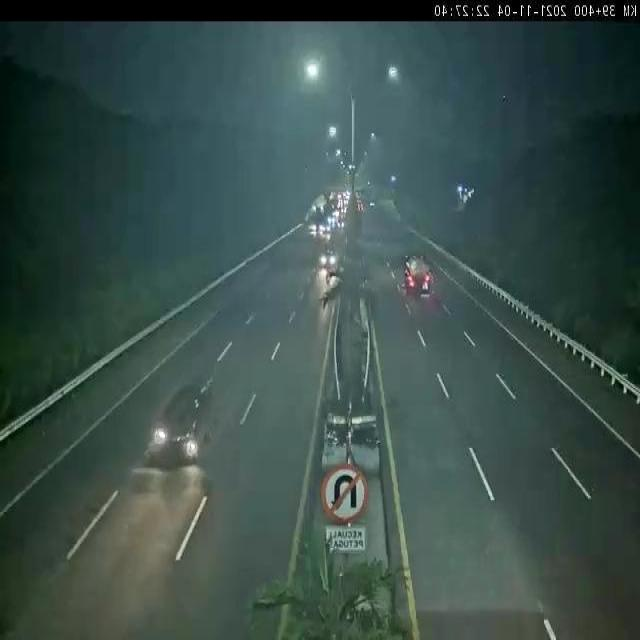Car: (152, 382, 215, 467), (319, 248, 337, 271)
Truck: (402, 254, 433, 294)
